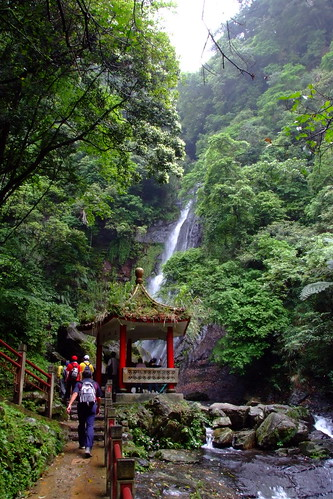wufengciWaterfall: (141, 180, 203, 319)
